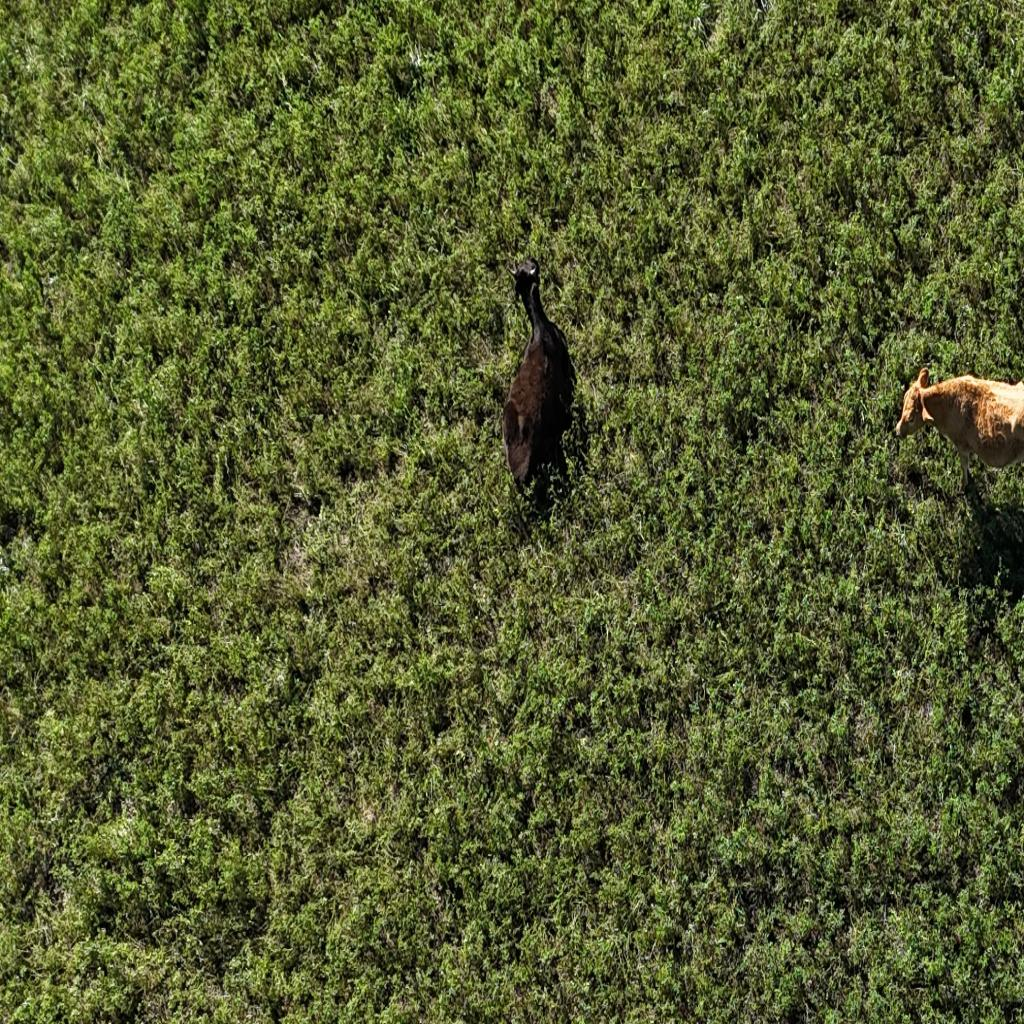cow: (495, 245, 583, 516), (893, 349, 1024, 520)
